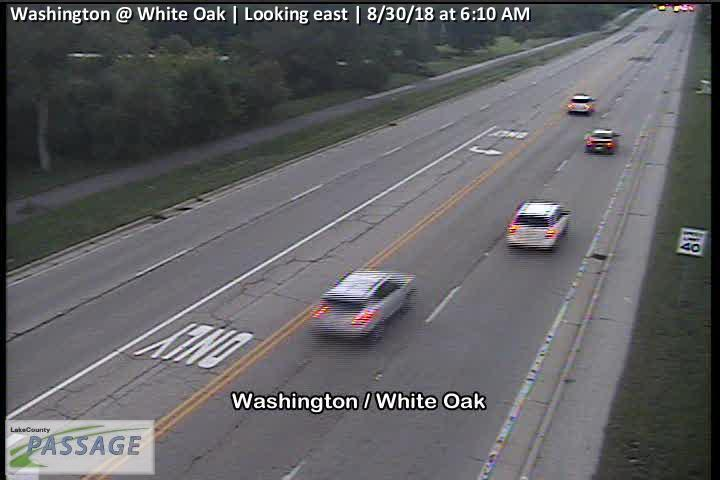SUV: (508, 200, 568, 247), (583, 128, 620, 154), (568, 92, 596, 115)
Sedan: (309, 268, 414, 340)
